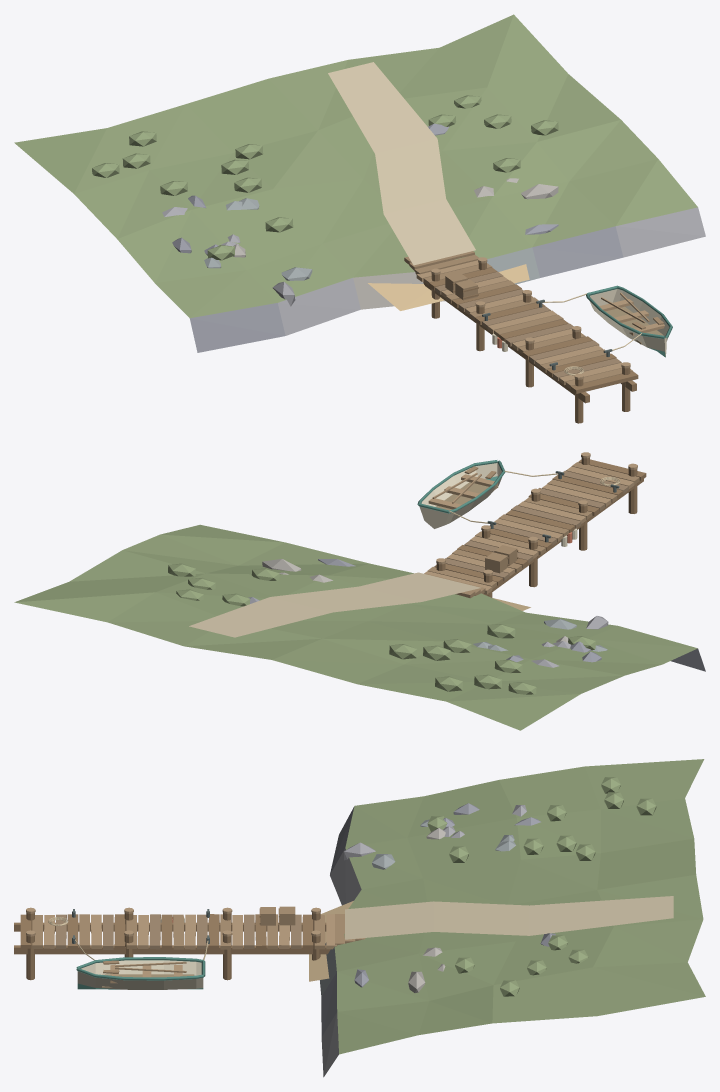
File: Cais_Iteracao01.fbx
3 views of the same model, one above another, from view 1: azimuth 30°, elevation 25°; view 2: azimuth 150°, elevation 25°; view 3: azimuth 270°, elevation 25° (orthographic).
Visible parts, largest first — view 1: Encosta_lowpoly.001, Inicio_do_caminho.001, Costao_frontal_00.001, Costao_frontal_04.001, Costao_frontal_05.001, Costao_frontal_01.001, Praia_de_desembarque.001, Barco_casco_aberto.001, Costao_frontal_02.001, Costao_frontal_03.001; view 2: Encosta_lowpoly.001, Inicio_do_caminho.001, Barco_casco_aberto.001, Cais_tabua_11.001, Cais_tabua_05.001, Cais_tabua_13.001, Cais_tabua_12.001, Cais_tabua_06.001; view 3: Encosta_lowpoly.001, Inicio_do_caminho.001, Barco_casco_aberto.001, Longarina_1.001, Costao_frontal_01.001, Costao_frontal_05.001, Praia_de_desembarque.001, Costao_frontal_04.001, Borda_barco_1.001.
Boxes of the visible parts, x1,y1,x2,y2 form: Encosta_lowpoly.001: [14, 14, 697, 318]; Inicio_do_caminho.001: [328, 62, 475, 265]; Costao_frontal_00.001: [189, 303, 285, 352]; Costao_frontal_04.001: [532, 226, 623, 277]; Costao_frontal_05.001: [615, 207, 705, 257]; Costao_frontal_01.001: [278, 278, 360, 335]; Praia_de_desembarque.001: [368, 264, 529, 310]; Barco_casco_aberto.001: [589, 289, 669, 357]; Costao_frontal_02.001: [353, 272, 444, 309]; Costao_frontal_03.001: [487, 247, 539, 284]; Encosta_lowpoly.001: [14, 524, 697, 730]; Inicio_do_caminho.001: [189, 572, 480, 637]; Barco_casco_aberto.001: [419, 462, 501, 528]; Cais_tabua_11.001: [511, 505, 581, 528]; Cais_tabua_05.001: [547, 479, 617, 502]; Cais_tabua_13.001: [498, 514, 569, 536]; Cais_tabua_12.001: [505, 510, 575, 532]; Cais_tabua_06.001: [542, 484, 611, 506]; Encosta_lowpoly.001: [334, 759, 705, 1054]; Inicio_do_caminho.001: [345, 896, 673, 939]; Barco_casco_aberto.001: [77, 960, 203, 989]; Longarina_1.001: [14, 945, 330, 954]; Costao_frontal_01.001: [330, 848, 361, 905]; Costao_frontal_05.001: [321, 1012, 338, 1077]; Praia_de_desembarque.001: [309, 901, 353, 981]; Costao_frontal_04.001: [321, 972, 337, 1036]; Borda_barco_1.001: [76, 967, 203, 980].
Size of what is drawn, in the model's own units: 24 by 4.34 by 28.85.
